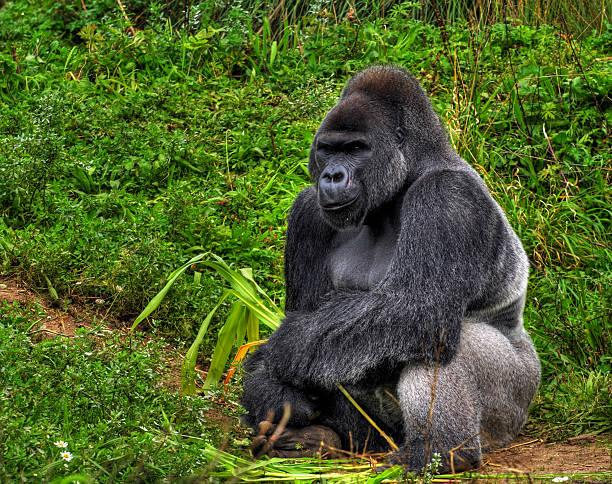goriile_montagne: (224, 55, 592, 484)
